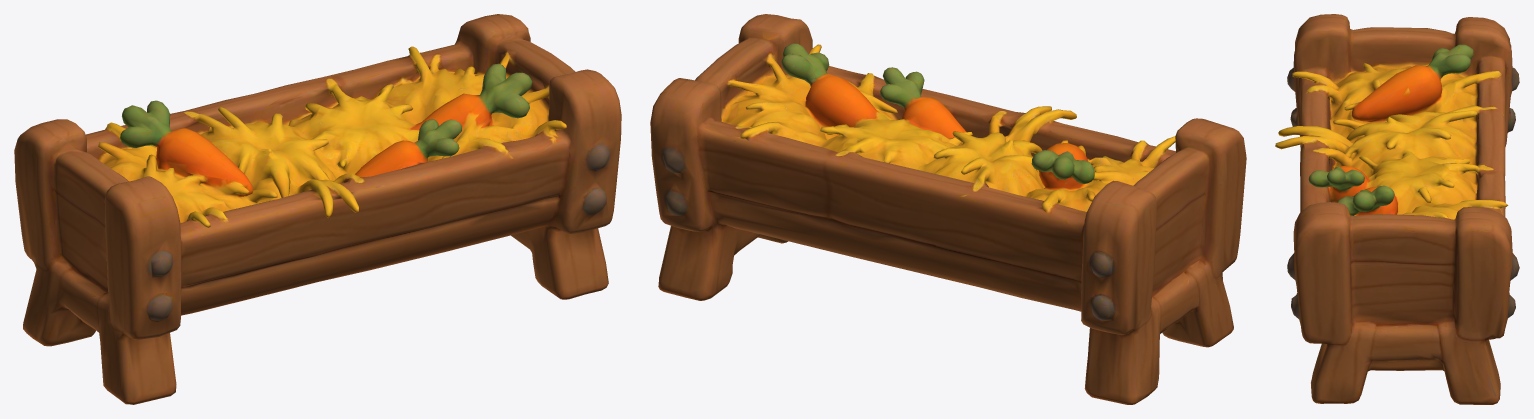
3 renders of one model, left to right at view 1: azimuth 30°, elevation 25°; view 2: azimuth 150°, elevation 25°; view 3: azimuth 270°, elevation 25°, orthographic. The views are drawn at different scales.
Visible parts, largest first — view 1: feed-trough; view 2: feed-trough; view 3: feed-trough.
Boxes of the visible parts, <box> form: feed-trough: <box>14,14,621,404</box>; feed-trough: <box>650,14,1246,404</box>; feed-trough: <box>1275,14,1519,404</box>.
Bounding box in the file's own units: 1.2 × 0.5046 × 0.5832.
1 material, 1 textured.
